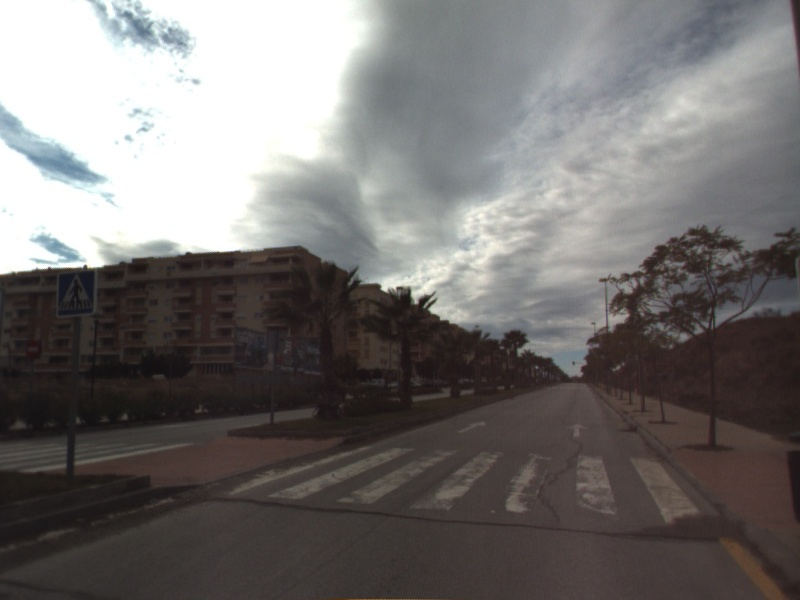STRAIGHT: (456, 419, 487, 435), (565, 421, 590, 438)
